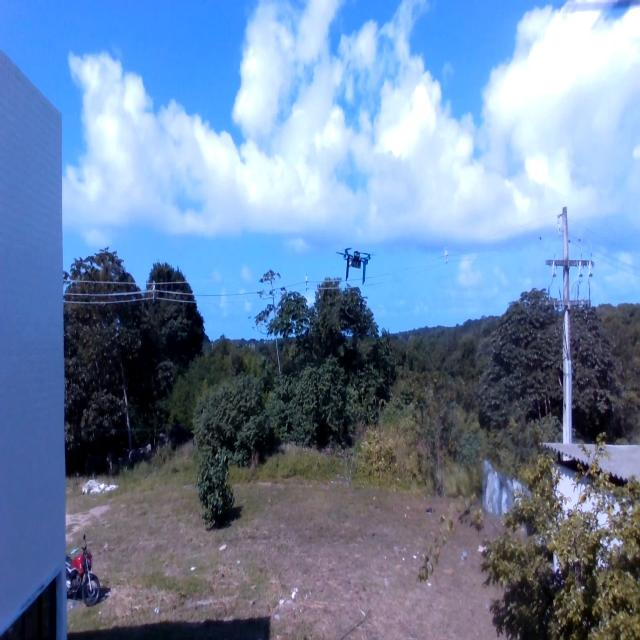-uav-: (329, 228, 379, 296)
